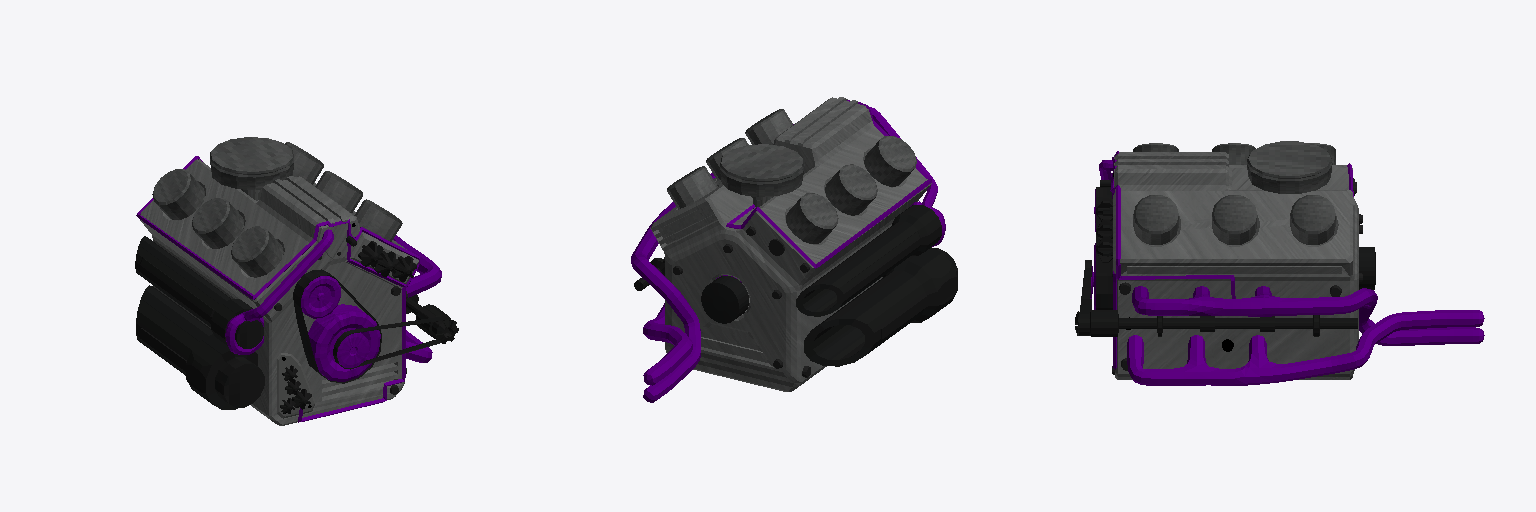
3 views of the same model, side by side, from view 1: azimuth 30°, elevation 25°; view 2: azimuth 150°, elevation 25°; view 3: azimuth 270°, elevation 25° (orthographic).
Visible parts, largest first — view 1: Cube.004; view 2: Cube.004; view 3: Cube.004.
Part boxes in pixels (x1,y1,x2,y2): Cube.004: (135, 137, 458, 425); Cube.004: (631, 97, 957, 402); Cube.004: (1075, 141, 1484, 385).
Bounding box in the file's own units: 3.53 × 2.76 × 5.22.
Materials: 1 (1 with a texture image).